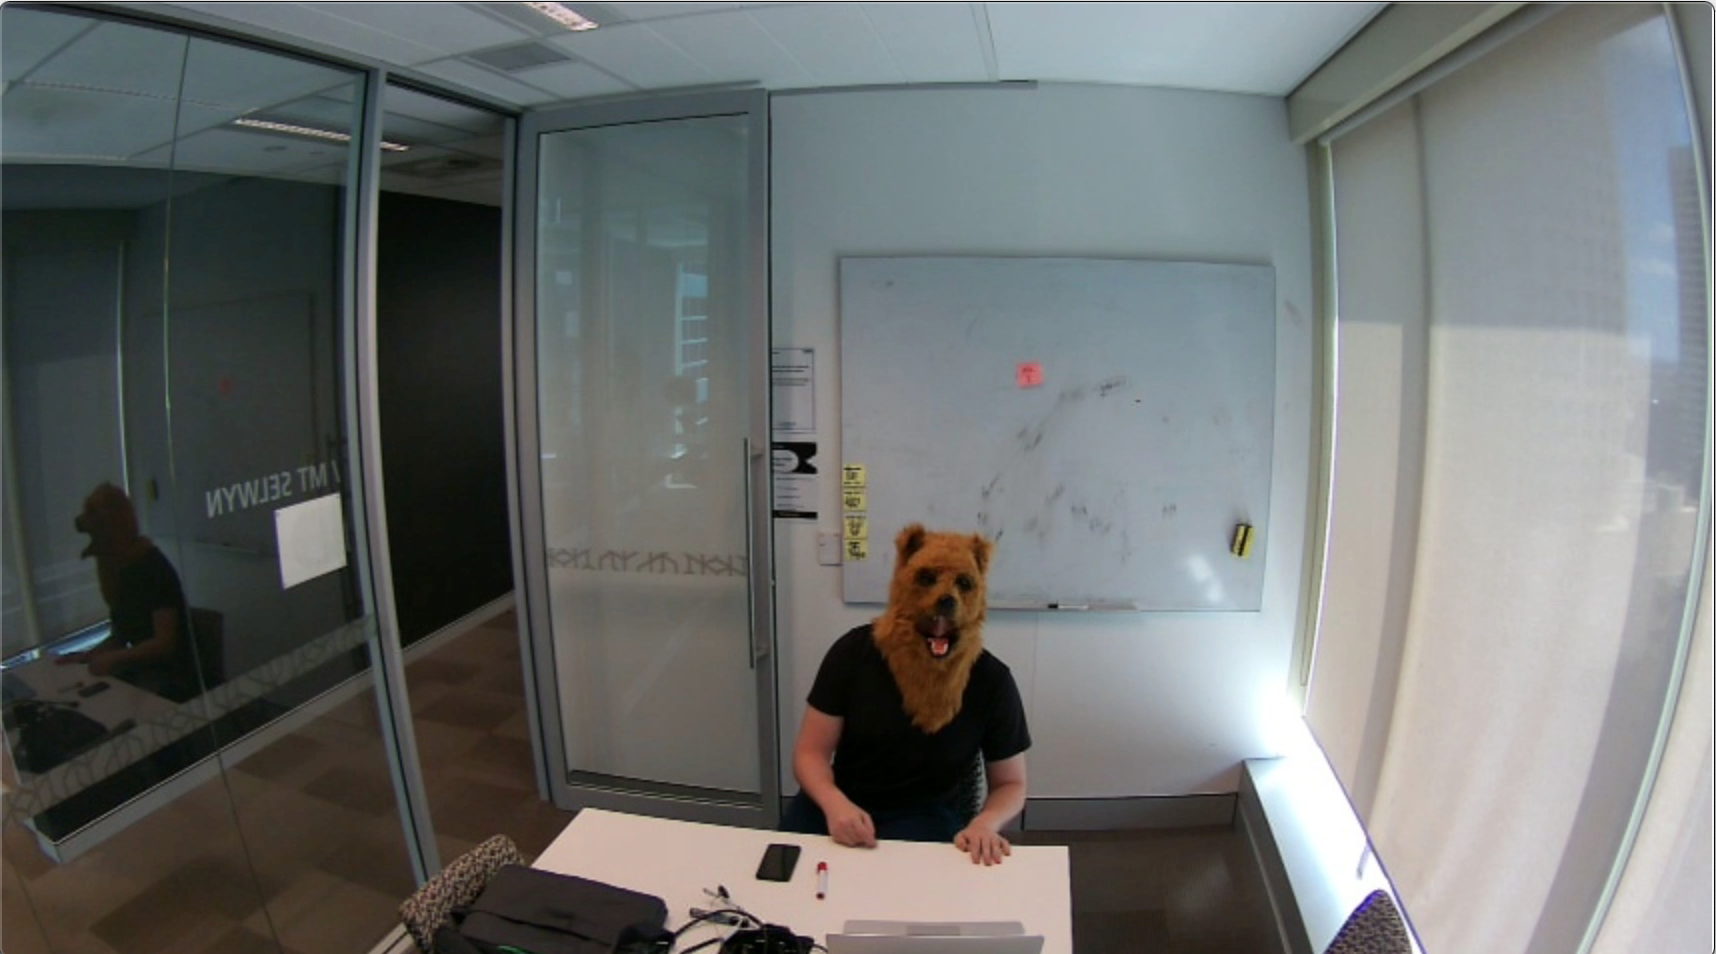Bear: (888, 520, 994, 665)
